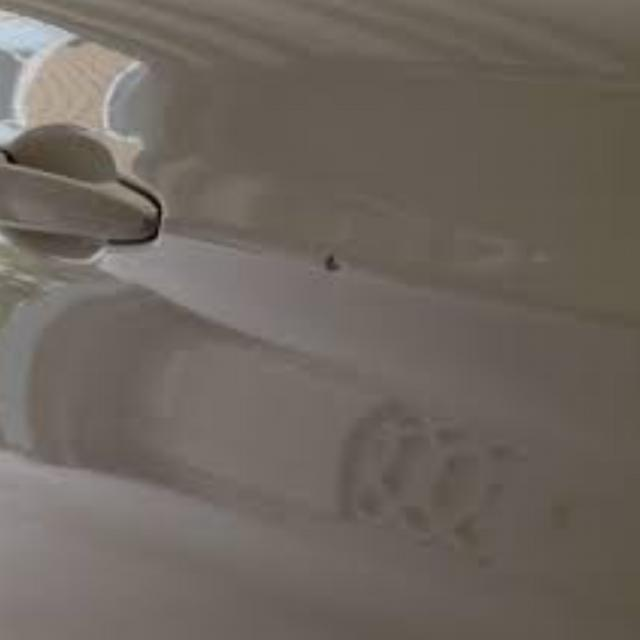dents: (294, 240, 377, 294)
